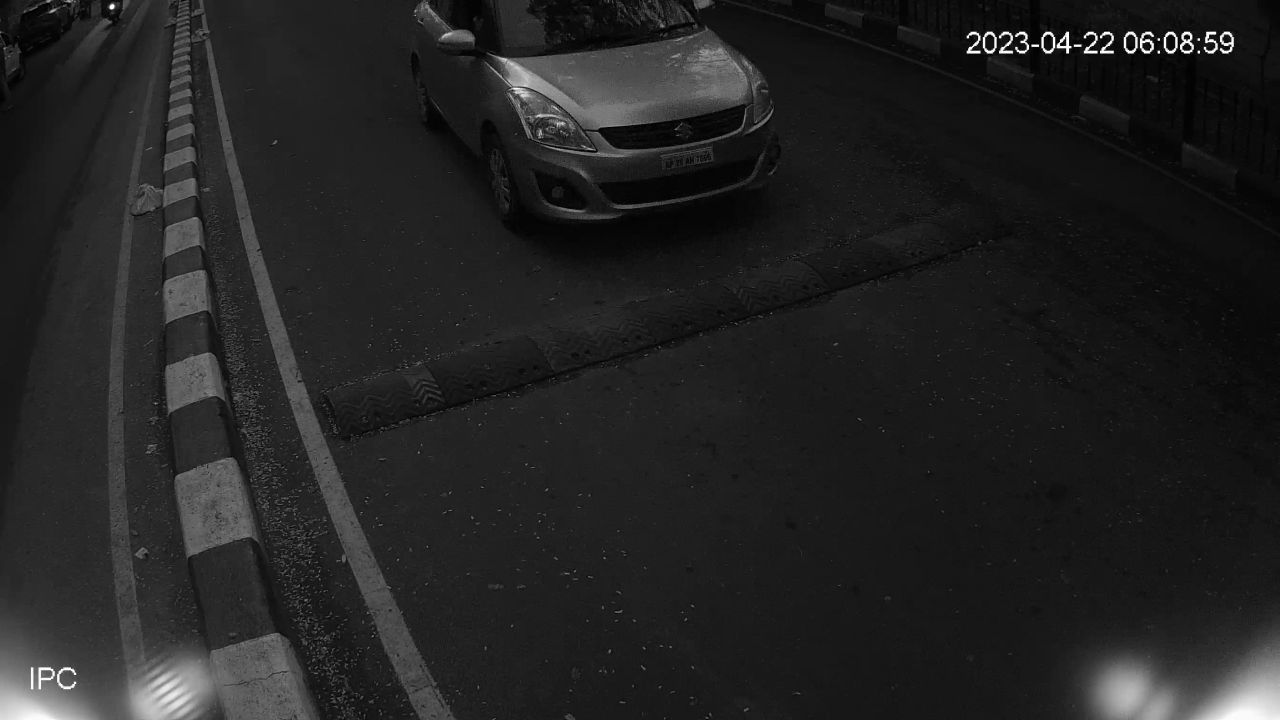license_plate: (653, 138, 719, 180)
